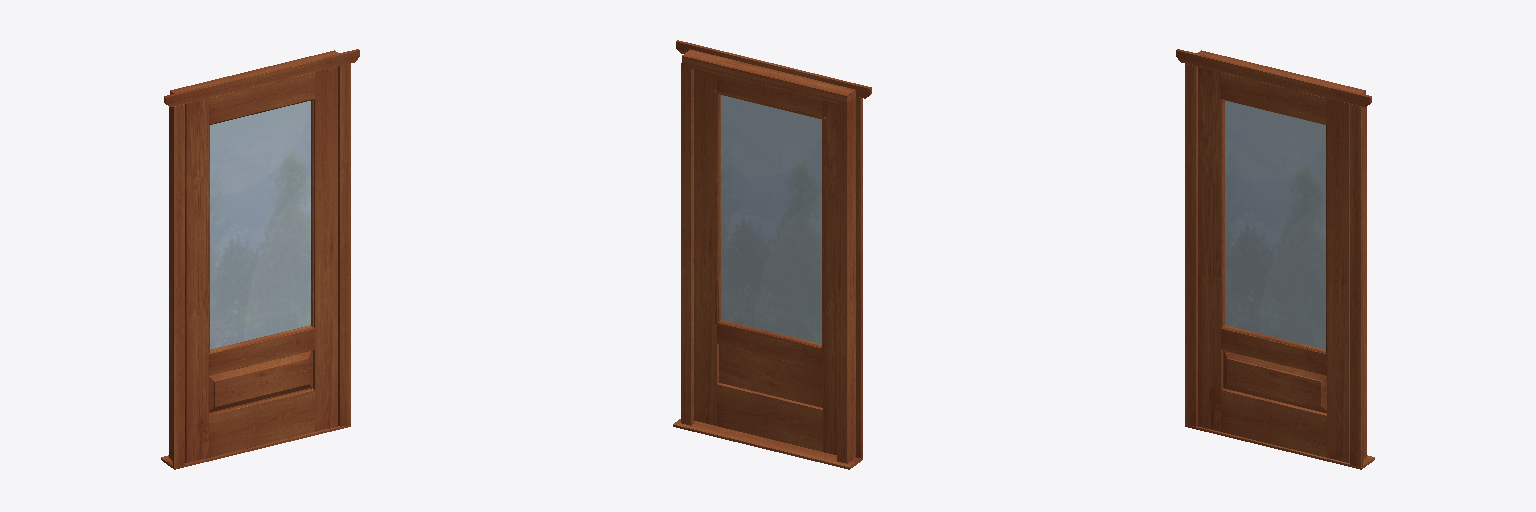
The picture shows the model from 3 angles: view 1: azimuth 30°, elevation 25°; view 2: azimuth 150°, elevation 25°; view 3: azimuth 330°, elevation 25°; orthographic projection.
Visible parts, largest first — view 1: glass, door_left, door_right, door_bottom, trim_left002, trim_left001, panel_extruded001, door_top, trim_top, door_middle, box_left, muttin002 (+2 smaller); view 2: glass, door_right, box_left, door_left, door_bottom, panel_extruded001, box_top, box_right, trim_left001, stop_right, door_middle, threshold (+5 smaller); view 3: glass, door_left, door_right, door_bottom, trim_left002, trim_left001, panel_extruded001, door_top, trim_top, door_middle, box_right, muttin001 (+2 smaller).
Part boxes in pixels (x1,y1,x2,y2): glass: (210,101,310,349); door_left: (185,98,208,462); door_right: (313,67,337,431); door_bottom: (209,388,314,457); trim_left002: (338,64,350,426); trim_left001: (173,104,184,466); panel_extruded001: (209,351,312,412); door_top: (209,72,314,123); trim_top: (164,49,359,107); door_middle: (209,329,314,375); box_left: (169,107,172,460); muttin002: (311,99,314,327); glass: (721,95,821,343); door_right: (694,69,718,425); box_left: (840,97,855,463); door_left: (823,101,836,454); door_bottom: (717,383,822,451); panel_extruded001: (719,345,822,407); box_top: (682,49,855,102); box_right: (681,63,687,424); trim_left001: (856,97,862,458); stop_right: (688,64,693,425); door_middle: (717,325,822,369); threshold: (673,419,862,469); glass: (1225,101,1325,349); door_left: (1198,67,1222,431); door_right: (1327,98,1349,462); door_bottom: (1221,388,1326,457); trim_left002: (1350,104,1362,466); trim_left001: (1185,64,1197,426); panel_extruded001: (1223,351,1326,412); door_top: (1221,72,1326,123); trim_top: (1176,49,1371,107); door_middle: (1221,329,1326,375); box_right: (1363,107,1366,460); muttin001: (1221,99,1224,327).
Bounding box in the file's own units: 44.67 × 82 × 5.5.
Materials: 7 (7 with a texture image).